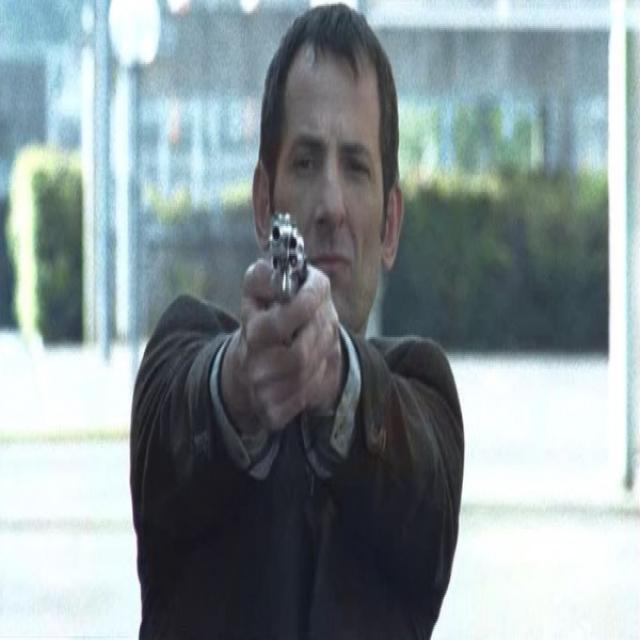weapons: (259, 202, 318, 410)
